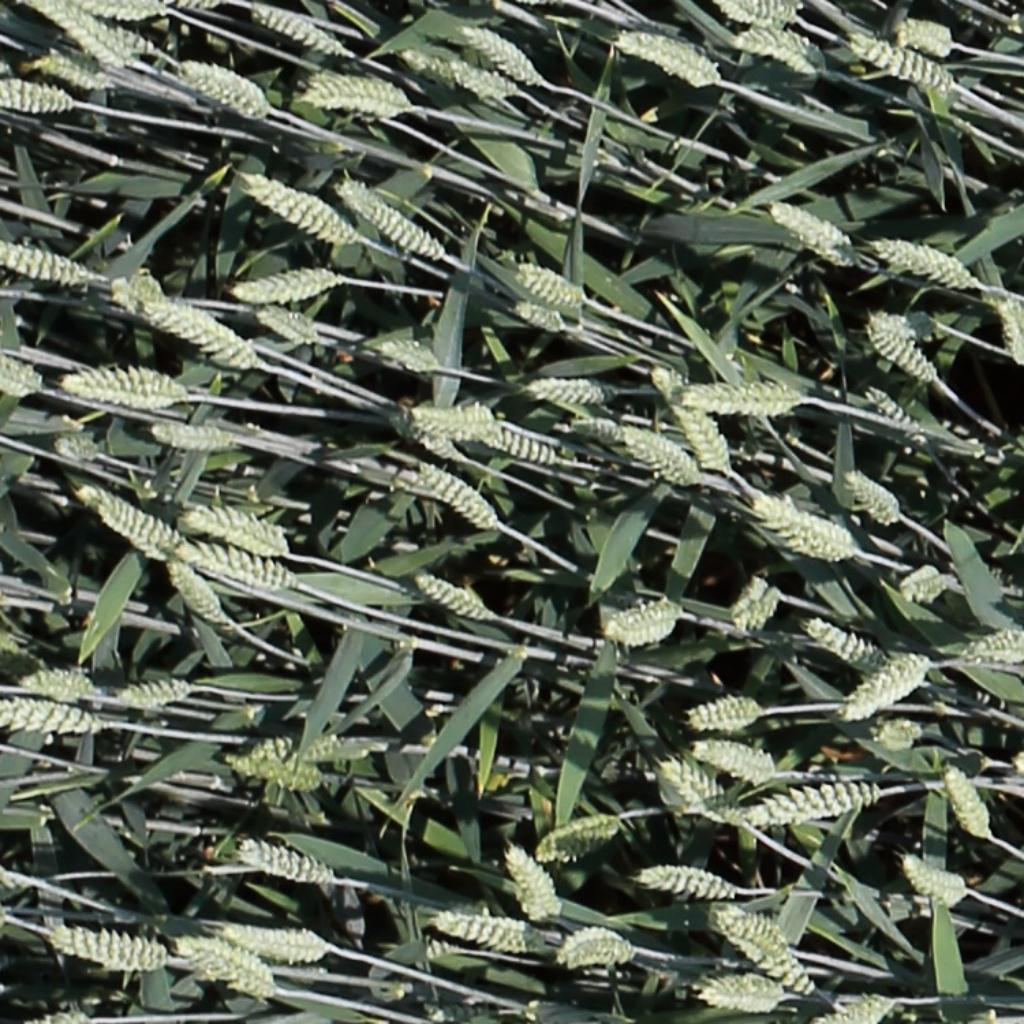0-0: (118, 275, 259, 368), (654, 365, 734, 479), (18, 0, 133, 70), (75, 483, 185, 555), (337, 180, 441, 256), (241, 172, 352, 243), (173, 933, 281, 1004), (587, 417, 697, 484), (752, 498, 861, 563), (720, 925, 815, 998), (148, 303, 258, 365), (176, 60, 277, 126), (839, 650, 934, 718), (873, 237, 981, 296), (62, 368, 191, 417), (748, 781, 883, 827), (617, 31, 724, 88), (767, 200, 857, 267), (410, 461, 495, 529), (180, 504, 293, 555), (177, 543, 299, 590), (849, 35, 951, 91), (46, 929, 169, 974), (298, 75, 414, 121), (863, 311, 937, 383), (224, 730, 372, 766), (233, 837, 337, 887), (159, 555, 232, 626), (248, 1, 342, 55), (727, 24, 823, 75), (500, 842, 558, 926), (460, 23, 537, 84), (670, 382, 806, 416), (939, 761, 993, 846), (804, 618, 886, 673), (218, 928, 327, 968), (230, 265, 340, 304), (631, 866, 736, 905), (432, 913, 536, 952), (0, 243, 89, 288), (603, 598, 684, 647), (386, 412, 467, 460), (861, 383, 925, 443), (408, 408, 505, 446), (531, 819, 618, 861), (688, 742, 778, 782), (410, 573, 488, 619), (32, 53, 118, 93), (700, 972, 783, 1013), (512, 260, 582, 308), (726, 572, 776, 638), (223, 757, 320, 791), (476, 427, 561, 465), (557, 926, 635, 967), (395, 47, 469, 90), (898, 858, 968, 902), (656, 763, 727, 806), (449, 60, 520, 103), (684, 694, 762, 732), (841, 472, 901, 521), (1, 81, 80, 118), (0, 703, 96, 733), (111, 679, 195, 713), (16, 669, 101, 702), (374, 338, 441, 378), (148, 425, 238, 454), (421, 995, 509, 1024), (815, 993, 897, 1024), (711, 906, 783, 941), (63, 0, 169, 23), (253, 304, 316, 342), (900, 567, 958, 607), (525, 378, 614, 404), (965, 630, 1024, 667), (896, 18, 952, 56), (723, 0, 798, 26), (0, 354, 41, 400), (1000, 297, 1024, 371), (510, 300, 565, 331), (109, 27, 153, 58), (54, 434, 103, 456)
